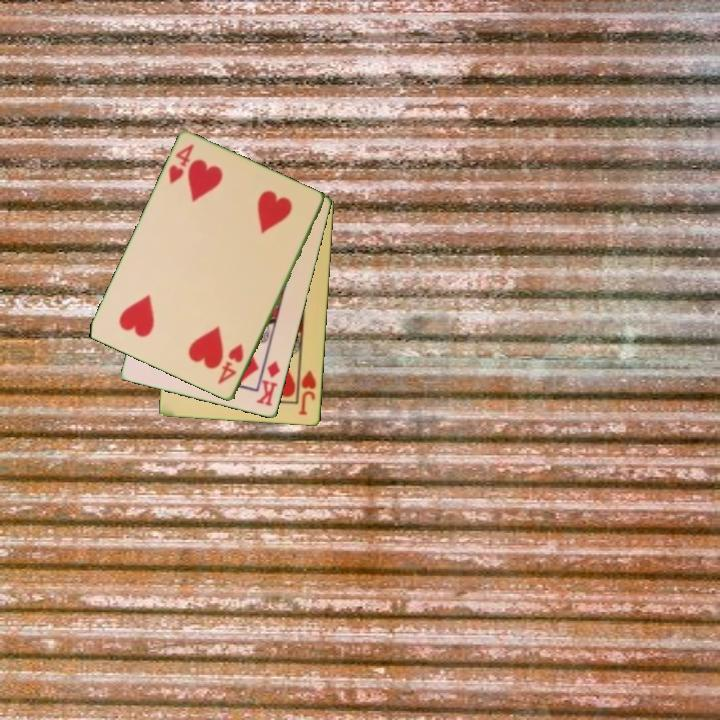4h: (214, 340, 247, 388), (165, 141, 197, 187)
Jh: (295, 363, 319, 418)
Kd: (253, 358, 283, 409)
